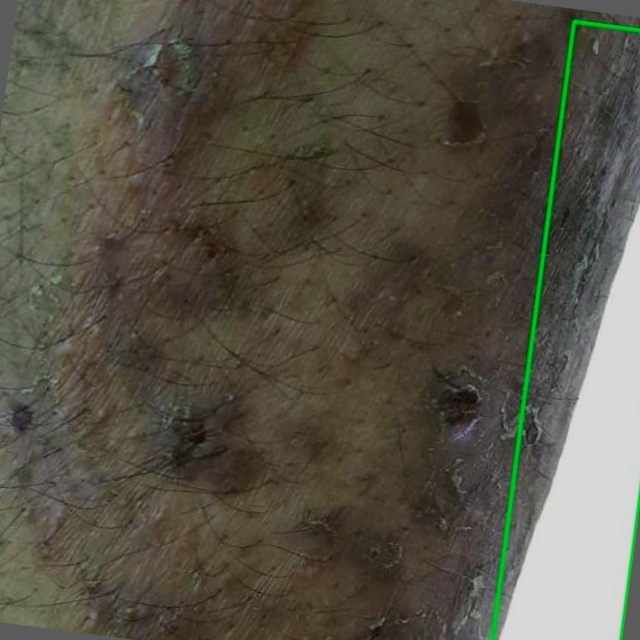Tinea Corporis: (492, 21, 639, 639)
